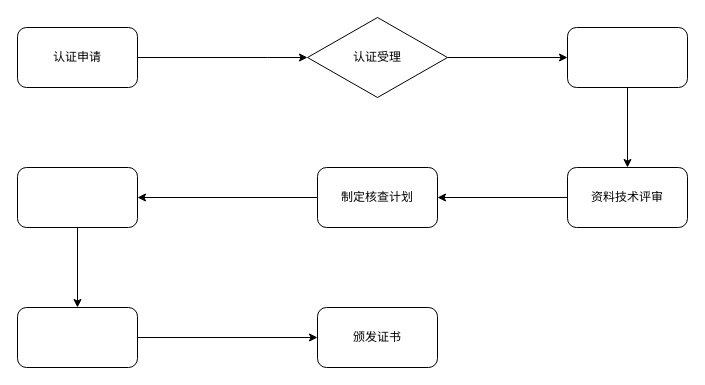
The diagram is 705 pixels wide and 385 high, and some of its shapes have lost their labels. The shapes that lost their labels are listed below. From the top down, each one's box as (x1, y1, x2, y2) in pixels, then its label:
(566, 26, 688, 88): 制定认证实施方案
(16, 166, 138, 228): 现场核查
(16, 306, 138, 368): 认证结果评价与批准
